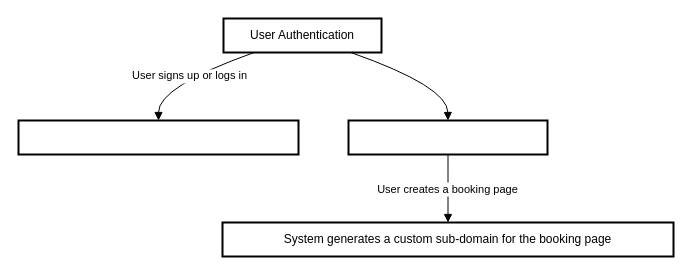
Some shapes in this 691 by 274 pixel diagram are drawn without their labels. Here are the shapes that lost their labels. From the top down, the box of each, then its label:
(17, 119, 299, 155): JWT token generation and validation
(347, 119, 548, 155): Sub-Domain Booking Page
